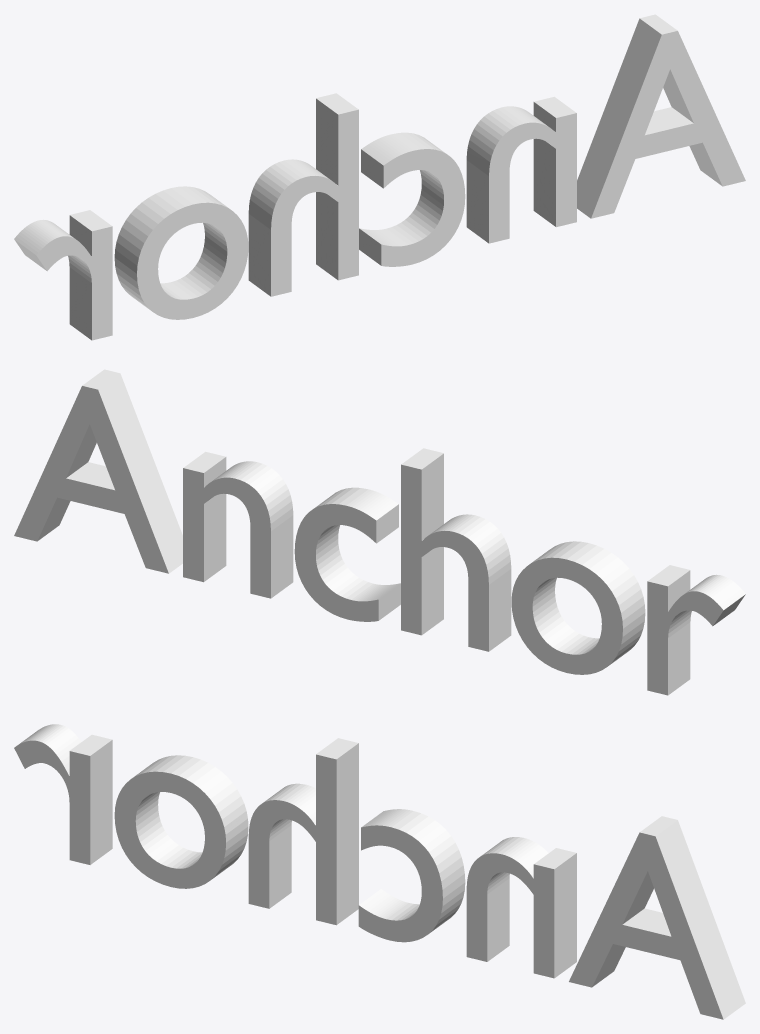
Rendered from title.obj.
The picture shows the model from 3 angles, top to bottom: view 1: azimuth 30°, elevation 25°; view 2: azimuth 150°, elevation 25°; view 3: azimuth 330°, elevation 25°; orthographic projection.
Parts seen in each view (by area): view 1: Anchor; view 2: Anchor; view 3: Anchor.
Part boxes in pixels (bbox=[...]): Anchor: bbox=[14, 14, 745, 340]; Anchor: bbox=[14, 369, 745, 695]; Anchor: bbox=[14, 724, 745, 1019].
Bounding box in the file's own units: 9.16 × 2.09 × 0.5.
1 material, 1 textured.
